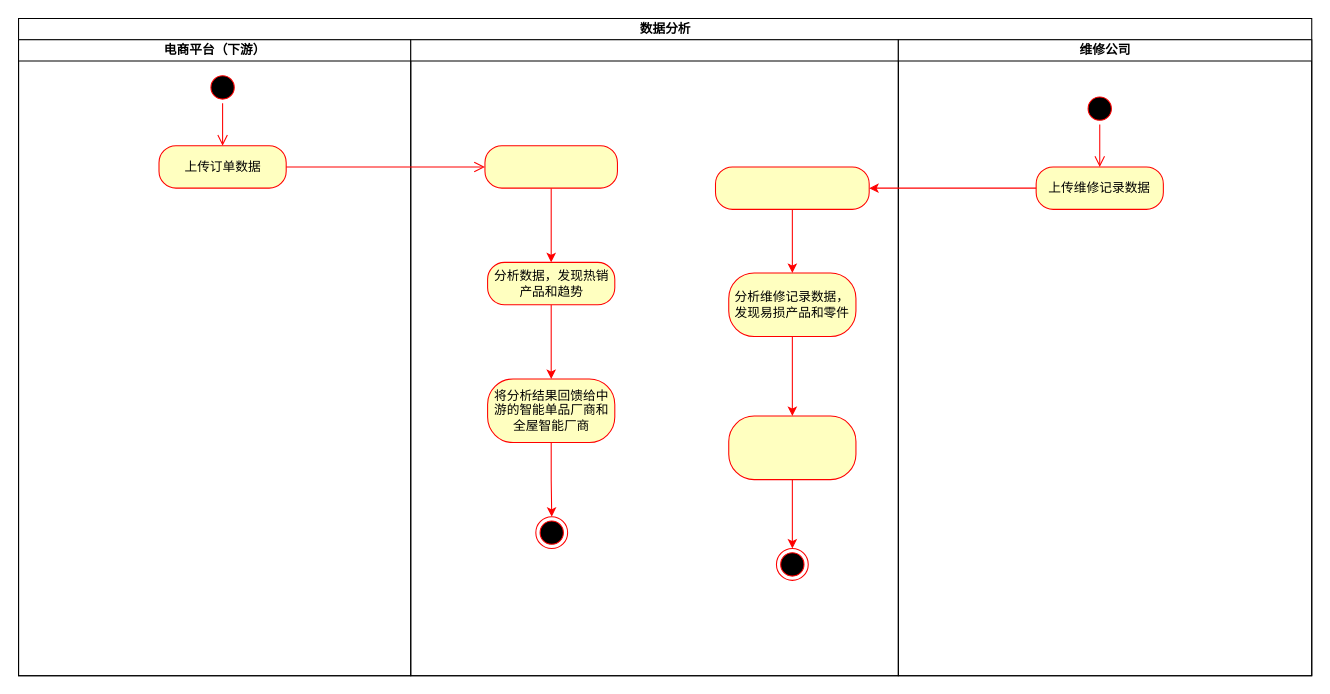
The diagram is 1330 pixels wide and 694 high, and some of its shapes have lost their labels. Here are the shapes that lost their labels. From the top down, the box of each, then its label:
(484, 145, 617, 188): 整合各大电商平台数据
(714, 166, 869, 209): 整合各维修公司维修记录
(410, 39, 898, 676): 服务器
(728, 415, 856, 480): 将分析结果反馈到中游和上游企业
